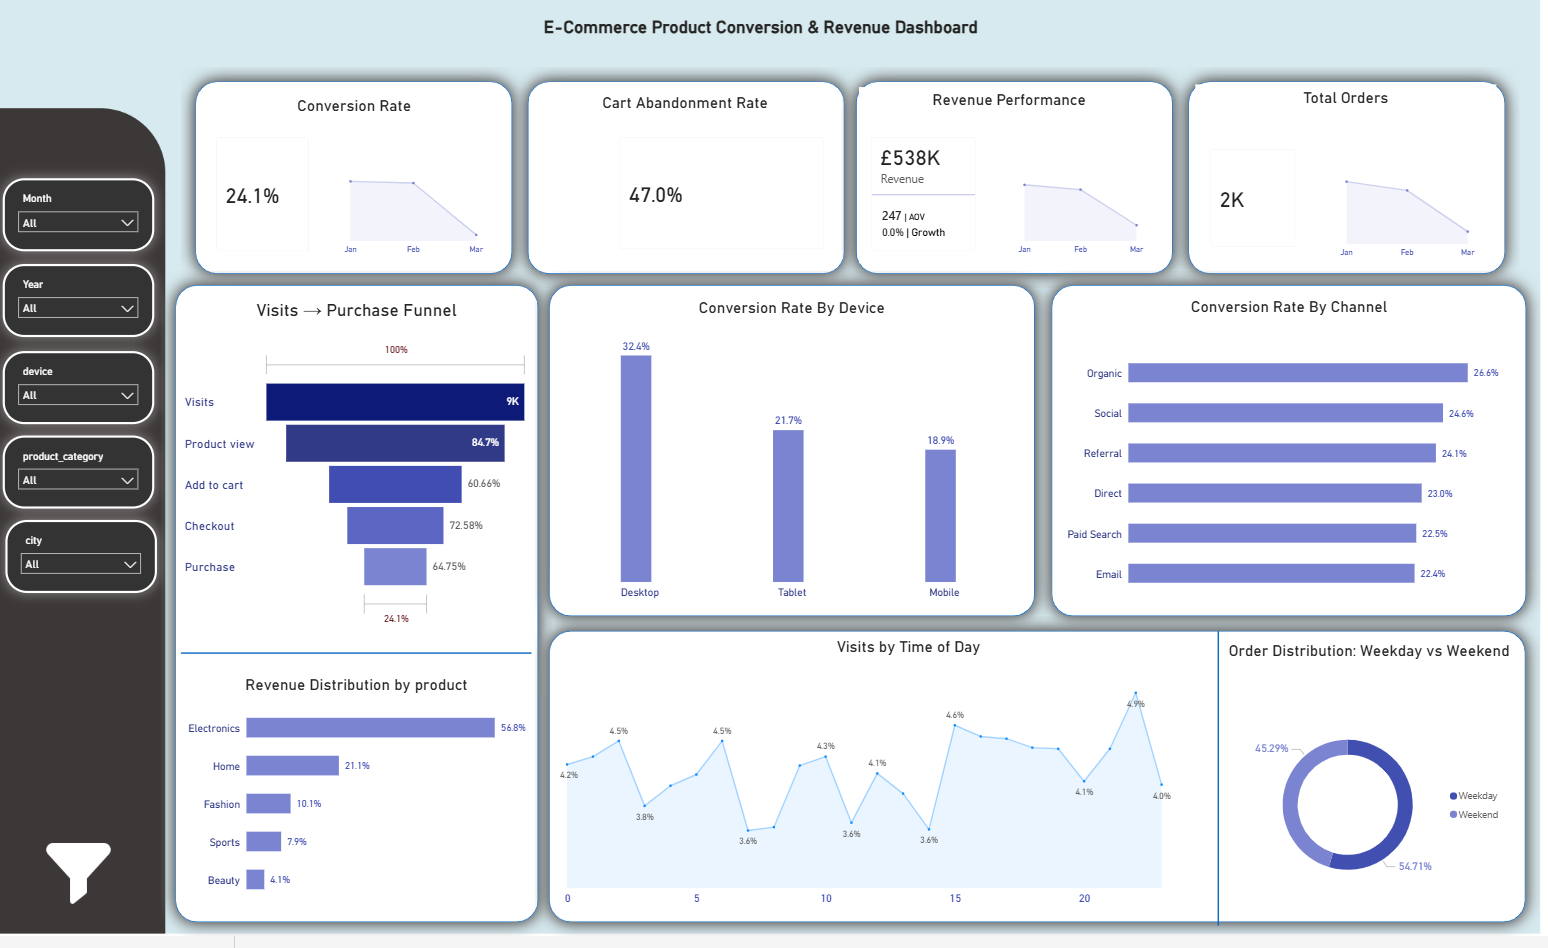

This screenshot's page, from the dashboard's own definition file:
{"tool":"powerbi","page":{"name":"Product Analysis ","canvas":[2150,1300],"ordinal":0},"visuals":[{"type":"shape","title":"Product View → Purchase Conversion","box":[263.2,92.9,480,307.4],"z":0},{"type":"shape","box":[723.3,92.9,480,307.4],"z":1000},{"type":"shape","box":[1178.9,92.9,479.9,307.4],"z":2000},{"type":"shape","box":[1641.2,92.9,479.9,307.4],"z":3000},{"type":"cardVisual","title":"Product Interest Conversion Rate","fields":{"Data":["Card_KPIs.Conversion_rate"]},"box":[294.2,172.5,163.7,192.4],"z":4000},{"type":"cardVisual","fields":{"Data":["Card_KPIs.Abandonment rate"]},"box":[853.8,172.5,318.5,190.2],"z":5000},{"type":"cardVisual","fields":{"Data":["Card_KPIs.Revenue"]},"box":[1203.2,172.5,179.2,192.4],"z":6000},{"type":"cardVisual","fields":{"Data":["Card_KPIs.Orders"]},"box":[1674.4,190.2,152.6,170.3],"z":7000},{"type":"shape","box":[234.5,376,544.1,924.5],"z":8000},{"type":"funnel","fields":{"Y":["KPIs(funnel logic).Visits","KPIs(funnel logic).Product view","KPIs(funnel logic).Add to cart","KPIs(funnel logic).Checkout","KPIs(funnel logic).Purchase"]},"box":[263.2,468.9,486.6,407],"z":9000},{"type":"shape","box":[754.2,376,714.4,499.9],"z":10000},{"type":"shape","box":[1451,376,698.9,499.9],"z":11000},{"type":"shape","box":[754.2,856,1395.7,444.6],"z":12000},{"type":"clusteredColumnChart","fields":{"Category":["dim_device_table.device"],"Y":["Card_KPIs.Conversion_rate"]},"box":[783,453.4,654.7,384.9],"z":13000},{"type":"clusteredBarChart","fields":{"Y":["Card_KPIs.Conversion_rate"],"Category":["dim_channel_table.acquisition_channel"]},"box":[1486.3,468.9,628.2,369.4],"z":14000},{"type":"clusteredBarChart","title":"Revenue Distribution  by product","fields":{"Y":["Stats.% Revenue"],"Category":["dim_product_table.product_category"]},"box":[265.4,937.8,479.9,325.1],"z":15000},{"type":"areaChart","fields":{"Category":["fact_engagement_table.Time category"],"Y":["Stats.Visits %"]},"box":[783,937.8,891.4,325.1],"z":16000},{"type":"donutChart","fields":{"Category":["Date table.Week period"],"Y":["Card_KPIs.Orders"]},"box":[1736.3,971,369.4,292],"z":17000},{"type":"areaChart","fields":{"Category":["Date table.Month"],"Y":["Stats.% orders"]},"box":[1842.5,223.4,245.5,141.6],"z":18000},{"type":"areaChart","fields":{"Category":["Date table.Month"],"Y":["Card_KPIs.Conversion_rate"]},"box":[457.8,223.4,254.4,137.1],"z":19000},{"type":"textbox","box":[294.2,128.3,418,44.2],"z":20000},{"type":"textbox","box":[754.2,123.9,418,48.7],"z":21000},{"type":"areaChart","fields":{"Category":["Date table.Month"],"Y":["Stats.% Revenue"]},"box":[1397.9,223.4,227.8,137.1],"z":22000},{"type":"textbox","box":[1203.2,121.7,422.5,50.9],"z":23000},{"type":"textbox","box":[1669.9,117.2,418,55.3],"z":24000},{"type":"textbox","box":[265.4,409.2,480,44.2],"z":25000},{"type":"textbox","box":[935.6,409.2,349.5,44.2],"z":26000},{"type":"textbox","box":[1561.5,407,480,48.7],"z":27000},{"type":"shape","box":[263.2,902.4,486.6,8.8],"z":28000},{"type":"shape","box":[1694.3,875.9,15.5,409.2],"z":29000},{"type":"textbox","box":[1032.9,880.3,480,57.5],"z":30000},{"type":"textbox","box":[1709.7,884.7,404.8,86.3],"z":31000},{"type":"textbox","box":[736.5,17.7,661.3,50.9],"z":32000},{"type":"slicer","fields":{"Values":["Date table.Month"]},"box":[15.5,247.7,210.1,101.7],"z":33000},{"type":"slicer","fields":{"Values":["Date table.Year"]},"box":[15.5,367.2,210.1,101.7],"z":34000},{"type":"slicer","fields":{"Values":["dim_device_table.device"]},"box":[15.5,486.6,210.1,101.7],"z":35000},{"type":"slicer","fields":{"Values":["dim_product_table.product_category"]},"box":[15.5,603.8,210.1,101.7],"z":36000},{"type":"slicer","fields":{"Values":["Dim_user_table.city"]},"box":[17.7,721.1,210.1,101.7],"z":37000},{"type":"image","box":[15.5,1156.8,210.1,106.2],"z":38000}]}

Visuals, with their boxes in screenshot pixels (x1, y1, x2, y2), scaled from the page's 2150x1300 canvas onto the 1548x948 screenshot:
"Product View → Purchase Conversion" shape: select_region(190, 68, 535, 292)
shape: select_region(521, 68, 866, 292)
shape: select_region(849, 68, 1194, 292)
shape: select_region(1182, 68, 1527, 292)
"Product Interest Conversion Rate" cardVisual: select_region(212, 126, 330, 266)
cardVisual - Card_KPIs.Abandonment rate: select_region(615, 126, 844, 264)
cardVisual - Card_KPIs.Revenue: select_region(866, 126, 995, 266)
cardVisual - Card_KPIs.Orders: select_region(1206, 139, 1315, 263)
shape: select_region(169, 274, 561, 947)
funnel - KPIs(funnel logic).Visits x KPIs(funnel logic).Product view: select_region(190, 342, 540, 639)
shape: select_region(543, 274, 1057, 639)
shape: select_region(1045, 274, 1547, 639)
shape: select_region(543, 624, 1547, 947)
clusteredColumnChart - dim_device_table.device x Card_KPIs.Conversion_rate: select_region(564, 331, 1035, 611)
clusteredBarChart - Card_KPIs.Conversion_rate x dim_channel_table.acquisition_channel: select_region(1070, 342, 1522, 611)
"Revenue Distribution  by product" clusteredBarChart: select_region(191, 684, 537, 921)
areaChart - fact_engagement_table.Time category x Stats.Visits %: select_region(564, 684, 1206, 921)
donutChart - Date table.Week period x Card_KPIs.Orders: select_region(1250, 708, 1516, 921)
areaChart - Date table.Month x Stats.% orders: select_region(1327, 163, 1503, 266)
areaChart - Date table.Month x Card_KPIs.Conversion_rate: select_region(330, 163, 513, 263)
textbox: select_region(212, 94, 513, 126)
textbox: select_region(543, 90, 844, 126)
areaChart - Date table.Month x Stats.% Revenue: select_region(1006, 163, 1171, 263)
textbox: select_region(866, 89, 1171, 126)
textbox: select_region(1202, 85, 1503, 126)
textbox: select_region(191, 298, 537, 331)
textbox: select_region(674, 298, 925, 331)
textbox: select_region(1124, 297, 1470, 332)
shape: select_region(190, 658, 540, 664)
shape: select_region(1220, 639, 1231, 937)
textbox: select_region(744, 642, 1089, 684)
textbox: select_region(1231, 645, 1522, 708)
textbox: select_region(530, 13, 1006, 50)
slicer - Date table.Month: select_region(11, 181, 162, 255)
slicer - Date table.Year: select_region(11, 268, 162, 342)
slicer - dim_device_table.device: select_region(11, 355, 162, 429)
slicer - dim_product_table.product_category: select_region(11, 440, 162, 514)
slicer - Dim_user_table.city: select_region(13, 526, 164, 600)
image: select_region(11, 844, 162, 921)
